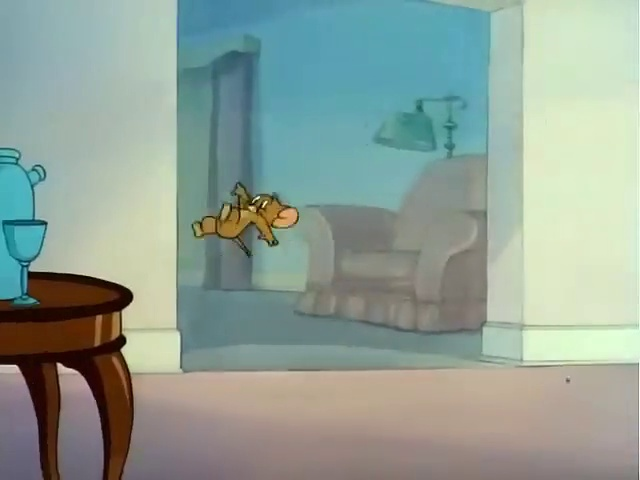jerry: (173, 156, 321, 263)
